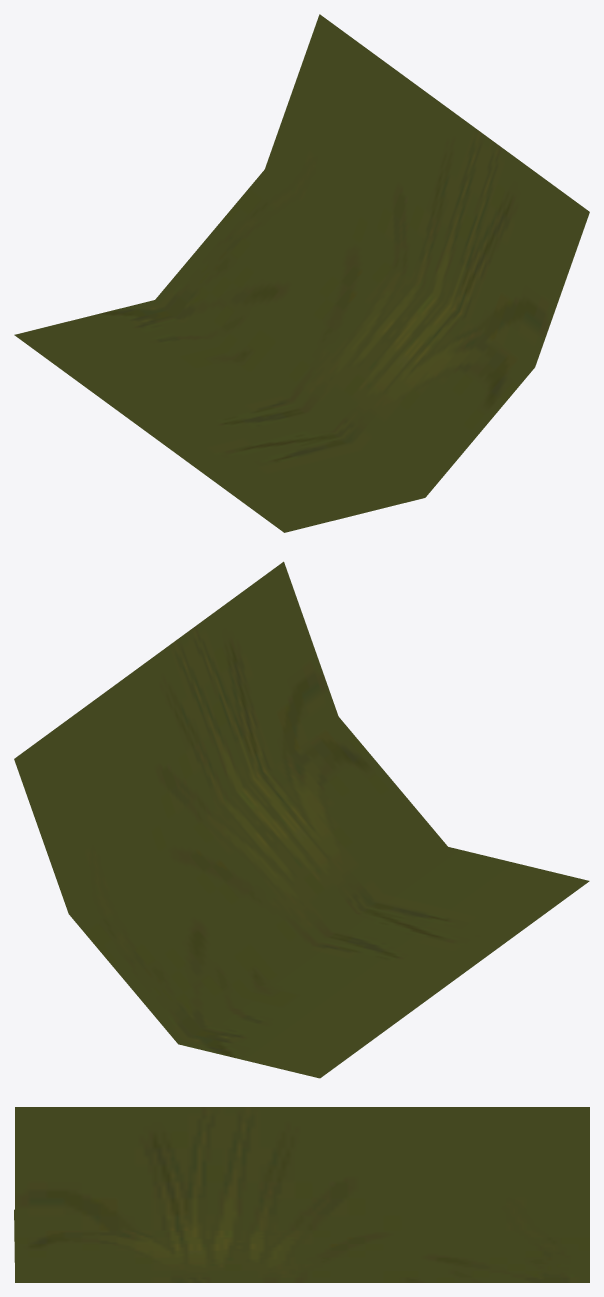
File: grass_clump_00a.fbx
3 renders of one model, top to bottom at view 1: azimuth 30°, elevation 25°; view 2: azimuth 150°, elevation 25°; view 3: azimuth 270°, elevation 25°, orthographic. The views are drawn at different scales.
Visible parts, largest first — view 1: grass_clump_00a; view 2: grass_clump_00a; view 3: grass_clump_00a.
Part boxes in pixels (bbox=[...]): grass_clump_00a: bbox=[14, 14, 589, 532]; grass_clump_00a: bbox=[14, 561, 589, 1078]; grass_clump_00a: bbox=[14, 1107, 589, 1282].
Size of the model in its own units: 86.23 by 66.19 by 132.
